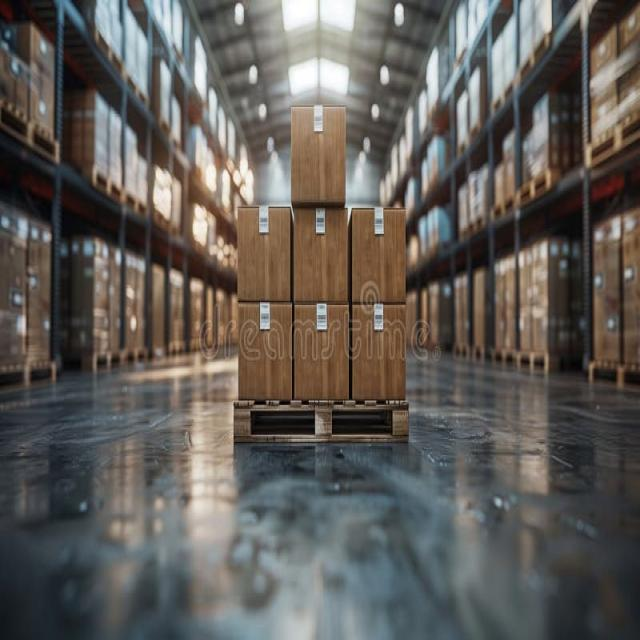box: (279, 94, 359, 212), (234, 204, 299, 305), (234, 302, 296, 406), (292, 297, 352, 404), (349, 203, 410, 305), (351, 305, 410, 409), (293, 204, 350, 310)
